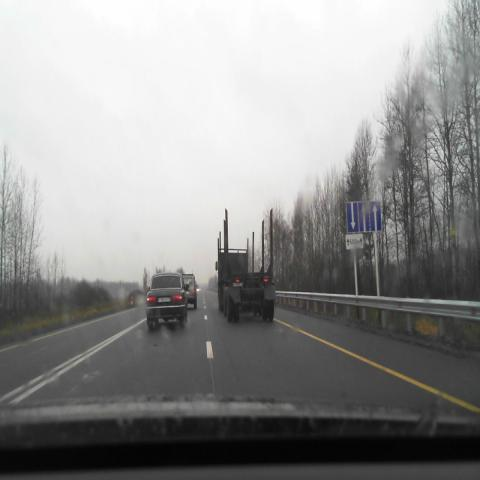5_15_7: (346, 200, 381, 233)
